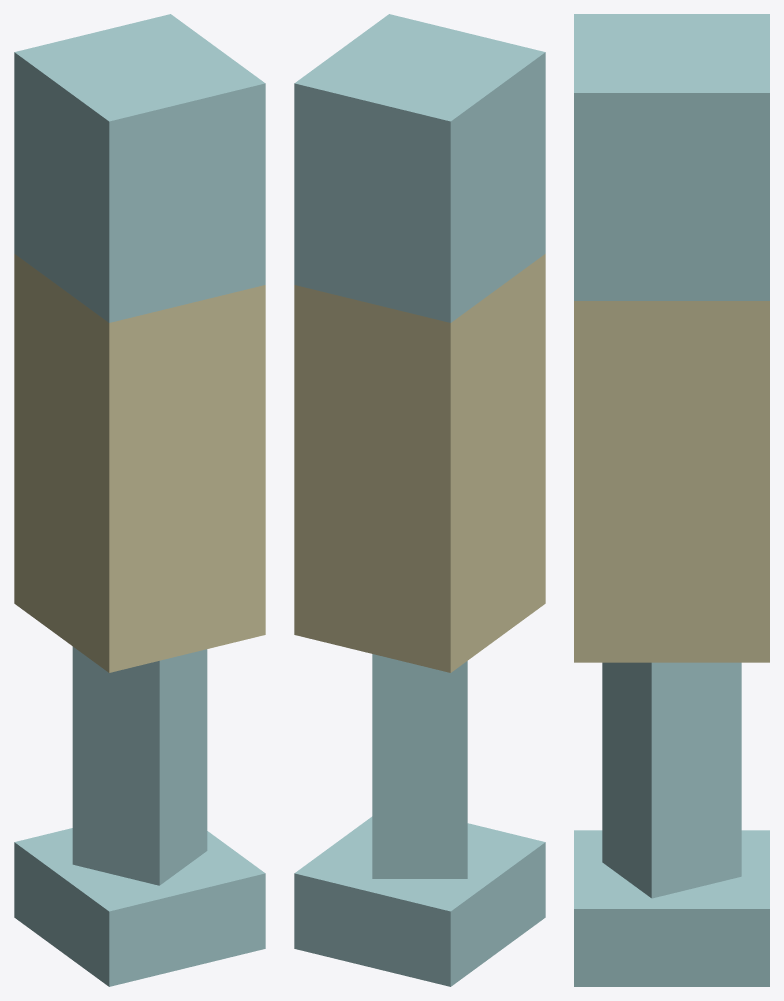
File: Glas_champagne.fbx
The picture shows the model from 3 angles, left to right: view 1: azimuth 30°, elevation 25°; view 2: azimuth 150°, elevation 25°; view 3: azimuth 270°, elevation 25°; orthographic projection. The views are drawn at different scales.
Visible parts, largest first — view 1: polySurface19; view 2: polySurface19; view 3: polySurface19.
Part boxes in pixels (<box>): polySurface19: <box>14,14,265,986</box>; polySurface19: <box>294,14,545,986</box>; polySurface19: <box>574,14,769,986</box>.
Size of the model in its own units: 23.89 by 126 by 25.09.
